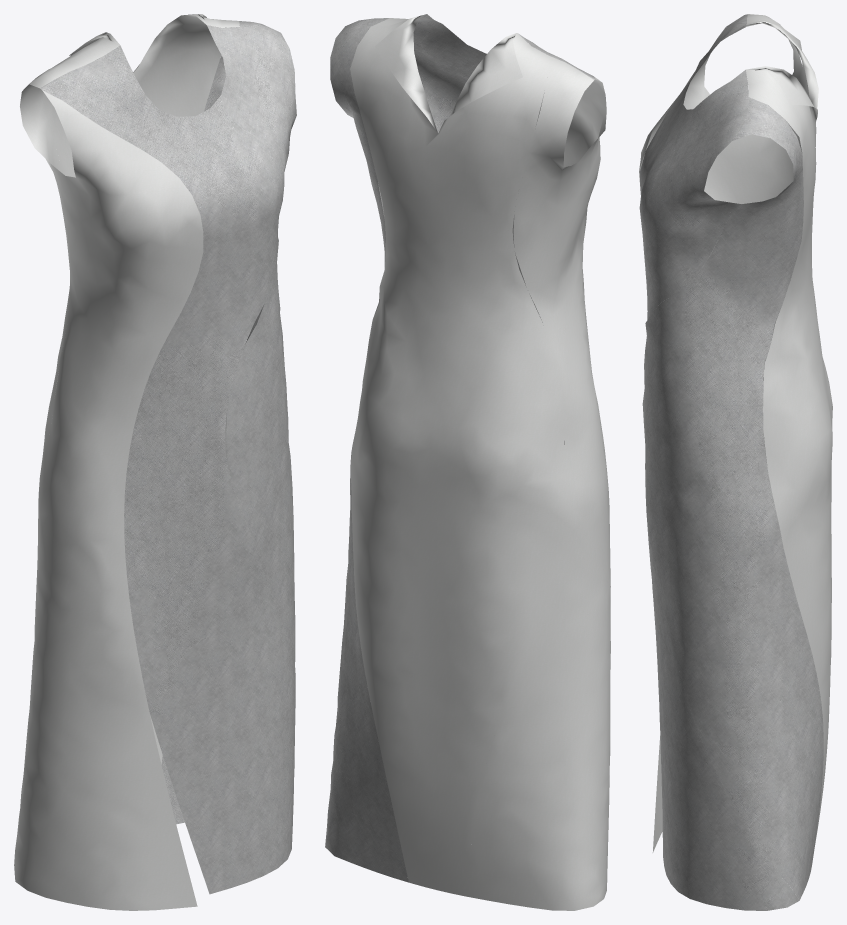
The model's file is 立裁裙.obj.
3 renders of one model, left to right at view 1: azimuth 30°, elevation 25°; view 2: azimuth 150°, elevation 25°; view 3: azimuth 270°, elevation 25°, orthographic. The views are drawn at different scales.
Size of the model in its own units: 397 by 1213 by 261.
